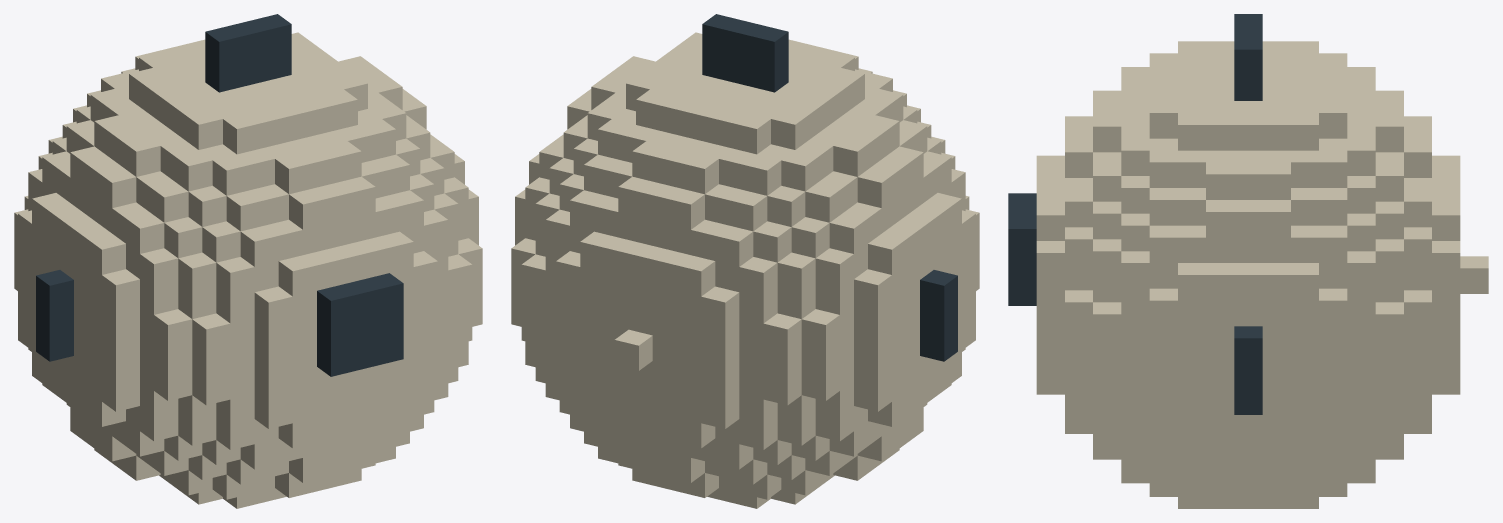
The model's file is sports-01.glb.
3 views of the same model, side by side, from view 1: azimuth 30°, elevation 25°; view 2: azimuth 150°, elevation 25°; view 3: azimuth 270°, elevation 25° (orthographic).
Parts seen in each view (by area): view 1: Football; view 2: Football; view 3: Football.
Part boxes in pixels (x1,y1,x2,y2): Football: (14, 14, 482, 508); Football: (511, 14, 979, 508); Football: (1008, 14, 1488, 508).
Size of the model in its own units: 1.36 by 1.44 by 1.36.
